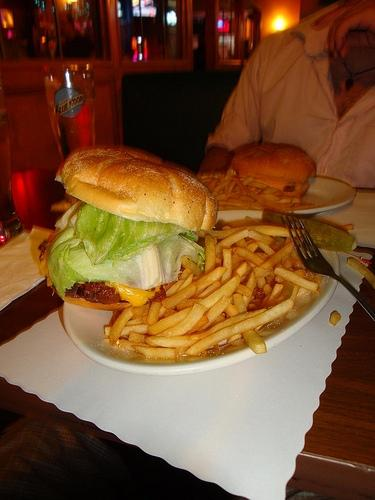lettuce: (47, 226, 206, 298), (75, 200, 198, 269)
